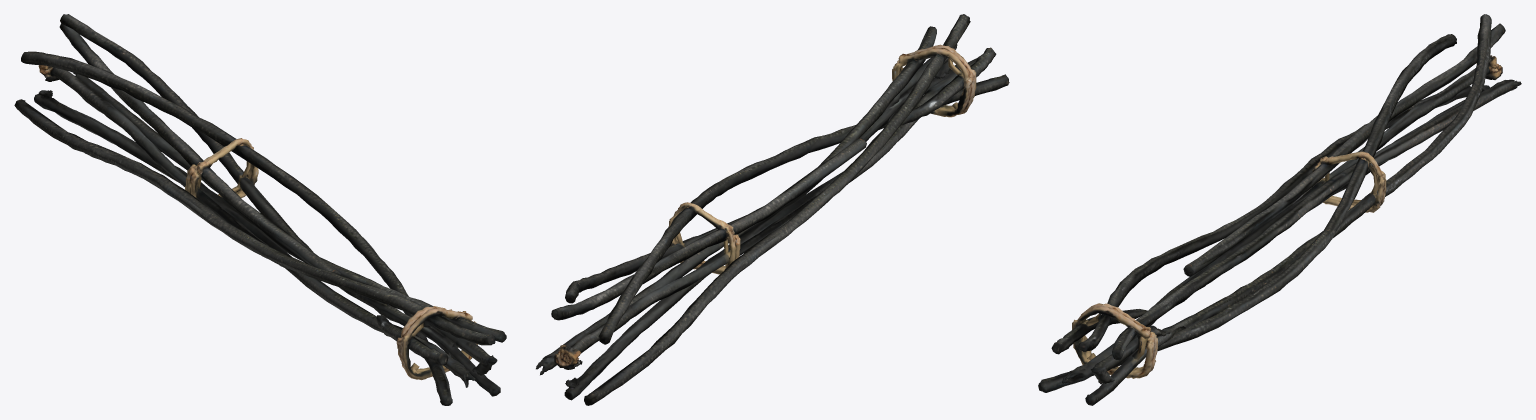
3 renders of one model, left to right at view 1: azimuth 30°, elevation 25°; view 2: azimuth 150°, elevation 25°; view 3: azimuth 330°, elevation 25°, orthographic. The views are drawn at different scales.
Visible parts, largest first — view 1: tripo_node_ba405852-0b66-4e7b-a9d5-71372cbd5cee; view 2: tripo_node_ba405852-0b66-4e7b-a9d5-71372cbd5cee; view 3: tripo_node_ba405852-0b66-4e7b-a9d5-71372cbd5cee.
Boxes of the visible parts, x1,y1,x2,y2 form: tripo_node_ba405852-0b66-4e7b-a9d5-71372cbd5cee: [14, 14, 506, 405]; tripo_node_ba405852-0b66-4e7b-a9d5-71372cbd5cee: [536, 14, 1009, 405]; tripo_node_ba405852-0b66-4e7b-a9d5-71372cbd5cee: [1038, 14, 1521, 405].
Bounding box in the file's own units: 0.1426 × 0.127 × 0.998.
1 material, 1 textured.
